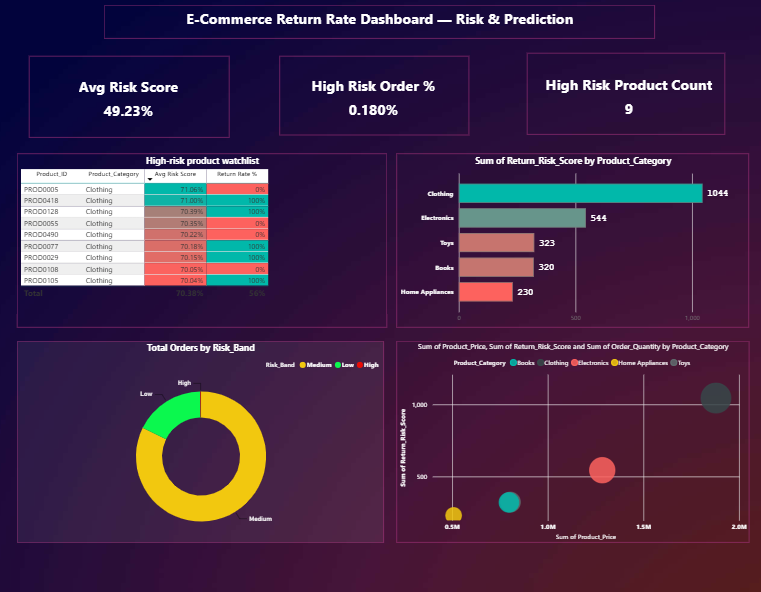

Layout of this report page (visuals, bound fields, positions):
{"tool":"powerbi","page":{"name":"Risk & Prediction","canvas":[1280,1000],"ordinal":2},"visuals":[{"type":"textbox","box":[179.3,13.9,918.2,55.8],"z":0},{"type":"donutChart","fields":{"Y":["Orders.Total Orders"],"Category":["Orders.Risk_Band"]},"box":[36,574,611.5,336.5],"z":1000},{"type":"shape","box":[54,100,334,136],"z":2000},{"type":"shape","box":[472,100,316,132],"z":3000},{"type":"shape","box":[886,96,330,136],"z":4000},{"type":"cardVisual","fields":{"Data":["Discount_Groups.Avg Risk Score"]},"box":[96,120,252.5,100],"z":5000},{"type":"cardVisual","fields":{"Data":["Orders.High Risk Order %"]},"box":[500,114,258,106],"z":6000},{"type":"cardVisual","fields":{"Data":["Discount_Groups.High Risk Product Count"]},"box":[896,110,320,114],"z":7000},{"type":"scatterChart","fields":{"X":["Sum(Orders.Product_Price)"],"Y":["Sum(Orders.Return_Risk_Score)"],"Series":["Orders.Product_Category"],"Size":["Sum(Orders.Order_Quantity)"]},"box":[668,574,588,336],"z":8000},{"type":"tableEx","title":"High-risk product watchlist","fields":{"Values":["Orders.Product_ID","Orders.Product_Category","Discount_Groups.Avg Risk Score","Orders.Return Rate %"]},"box":[36,262,616.7,290],"z":9000},{"type":"barChart","fields":{"Category":["Orders.Product_Category"],"Y":["Sum(Orders.Return_Risk_Score)"]},"box":[668,262,587.5,290],"z":10000}]}

Visuals, with their boxes in screenshot pixels (x1, y1, x2, y2), scaled from the page's 1280x1000 canvas onto the 761x592 screenshot:
textbox: {"left": 107, "top": 8, "right": 652, "bottom": 41}
donutChart - Orders.Total Orders x Orders.Risk_Band: {"left": 21, "top": 340, "right": 385, "bottom": 539}
shape: {"left": 32, "top": 59, "right": 231, "bottom": 140}
shape: {"left": 281, "top": 59, "right": 468, "bottom": 137}
shape: {"left": 527, "top": 57, "right": 723, "bottom": 137}
cardVisual - Discount_Groups.Avg Risk Score: {"left": 57, "top": 71, "right": 207, "bottom": 130}
cardVisual - Orders.High Risk Order %: {"left": 297, "top": 67, "right": 451, "bottom": 130}
cardVisual - Discount_Groups.High Risk Product Count: {"left": 533, "top": 65, "right": 723, "bottom": 133}
scatterChart - Sum(Orders.Product_Price) x Sum(Orders.Return_Risk_Score): {"left": 397, "top": 340, "right": 747, "bottom": 539}
"High-risk product watchlist" tableEx: {"left": 21, "top": 155, "right": 388, "bottom": 327}
barChart - Orders.Product_Category x Sum(Orders.Return_Risk_Score): {"left": 397, "top": 155, "right": 746, "bottom": 327}
